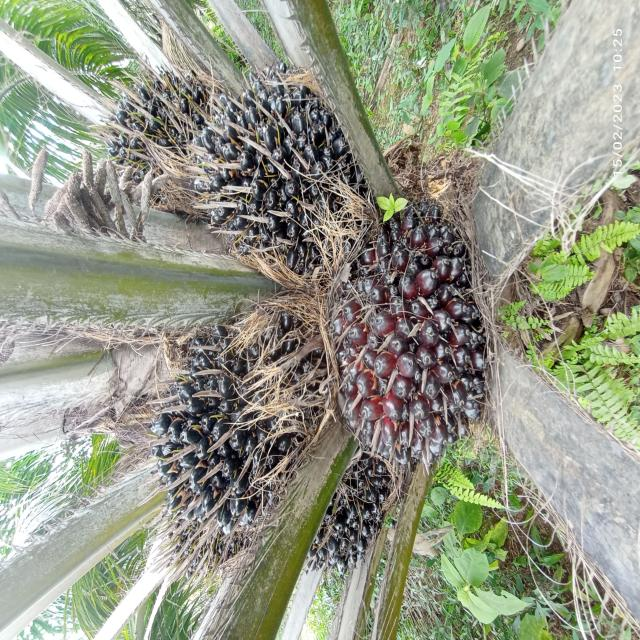fraksi 00: (168, 59, 386, 280), (145, 306, 334, 541), (92, 62, 244, 209), (305, 446, 408, 586)
fraksi 1: (303, 199, 514, 478)
